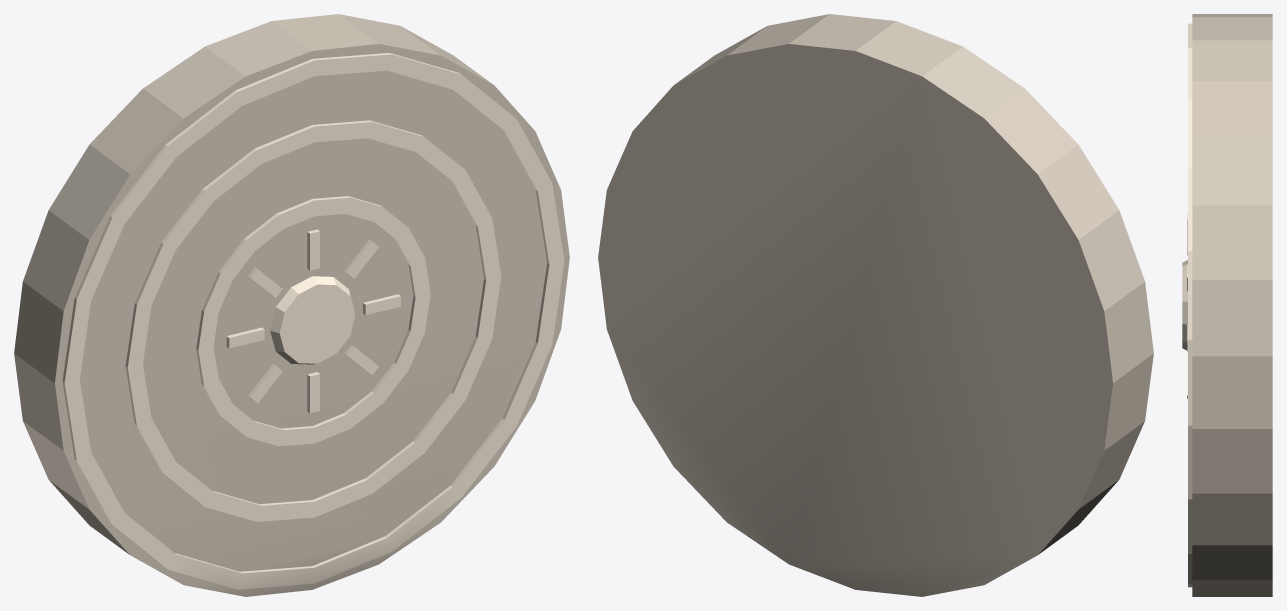
File: SM_VKI_Leaf_VaultDisc_300.fbx
The picture shows the model from 3 angles, left to right: view 1: azimuth 30°, elevation 25°; view 2: azimuth 150°, elevation 25°; view 3: azimuth 270°, elevation 25°; orthographic projection.
Visible parts, largest first — view 1: SM_VKI_Leaf_VaultDisc_300.001; view 2: SM_VKI_Leaf_VaultDisc_300.001; view 3: SM_VKI_Leaf_VaultDisc_300.001.
Part boxes in pixels (x1,y1,x2,y2): SM_VKI_Leaf_VaultDisc_300.001: (14,14,569,596); SM_VKI_Leaf_VaultDisc_300.001: (598,14,1153,596); SM_VKI_Leaf_VaultDisc_300.001: (1182,14,1272,596).
Bounding box in the file's own units: 2.04 × 2.04 × 0.315.
